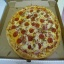pepperoni: (8, 31, 20, 38), (27, 26, 35, 36), (46, 35, 53, 46), (31, 18, 39, 27), (40, 33, 48, 42), (15, 38, 24, 45), (17, 10, 25, 17), (13, 18, 22, 23)
pizza: (7, 5, 61, 55)
